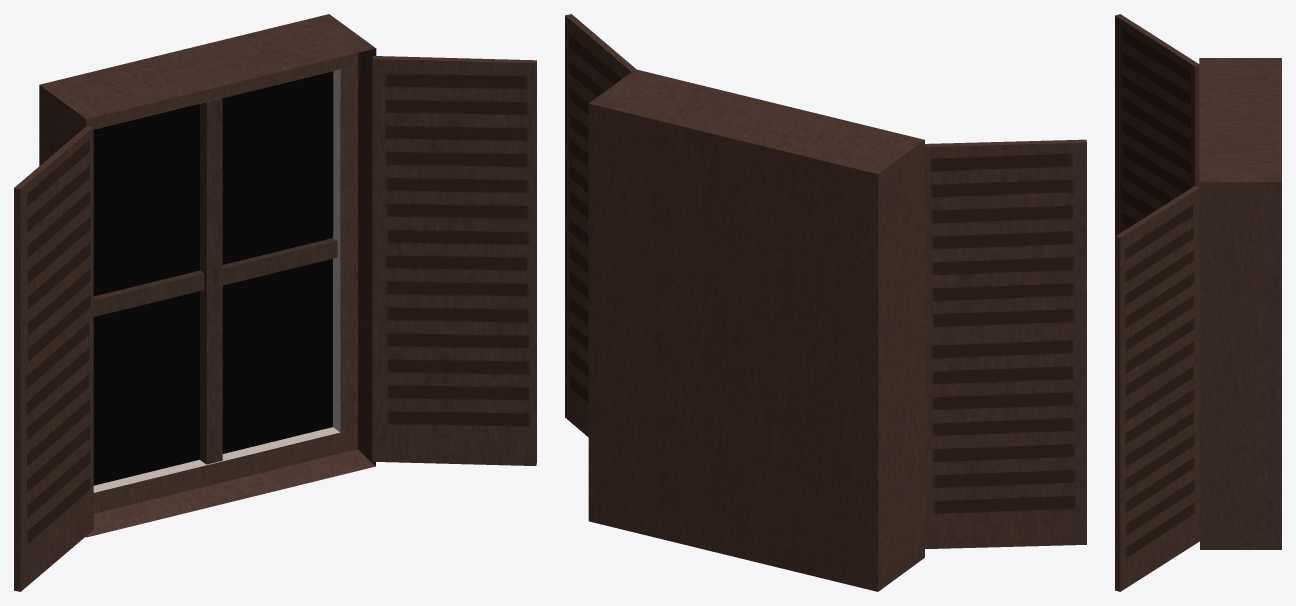
File: window1.glb
3 views of the same model, side by side, from view 1: azimuth 30°, elevation 25°; view 2: azimuth 150°, elevation 25°; view 3: azimuth 270°, elevation 25° (orthographic). The views are drawn at different scales.
Visible parts, largest first — view 1: Object_2; view 2: Object_2; view 3: Object_2.
Boxes of the visible parts, x1,y1,x2,y2 form: Object_2: (14,14,536,591); Object_2: (565,14,1086,591); Object_2: (1115,14,1281,591).
Size of the model in its own units: 294 by 225 by 92.63.
1 material, 1 textured.
